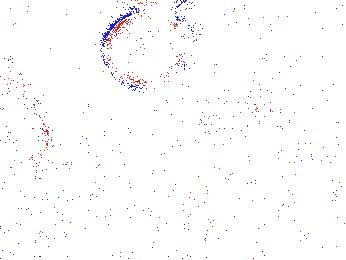moon jellyfish: (179, 1, 299, 93), (101, 13, 189, 86), (1, 74, 49, 174), (266, 19, 346, 59)
